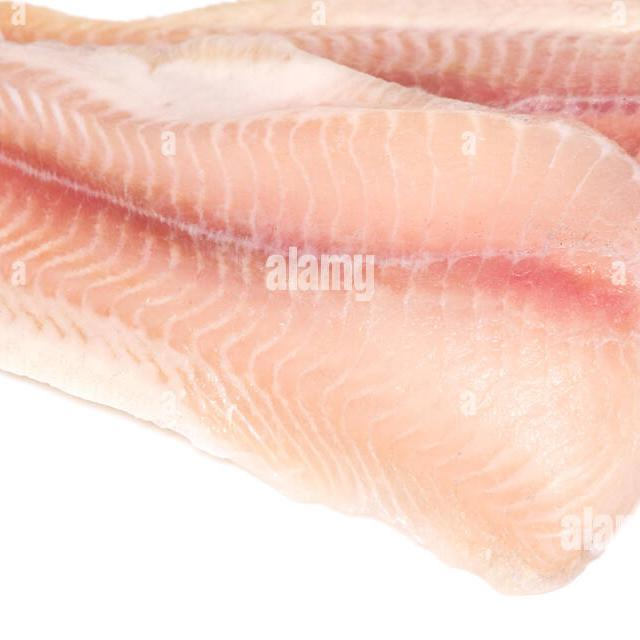fish: (0, 24, 640, 611)
